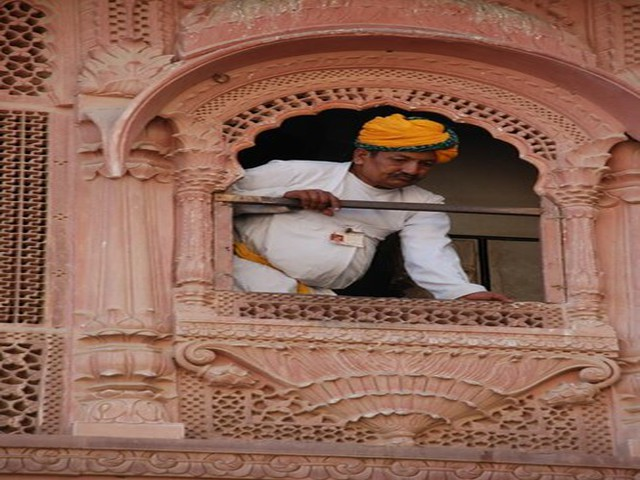Person: (251, 117, 486, 308)
